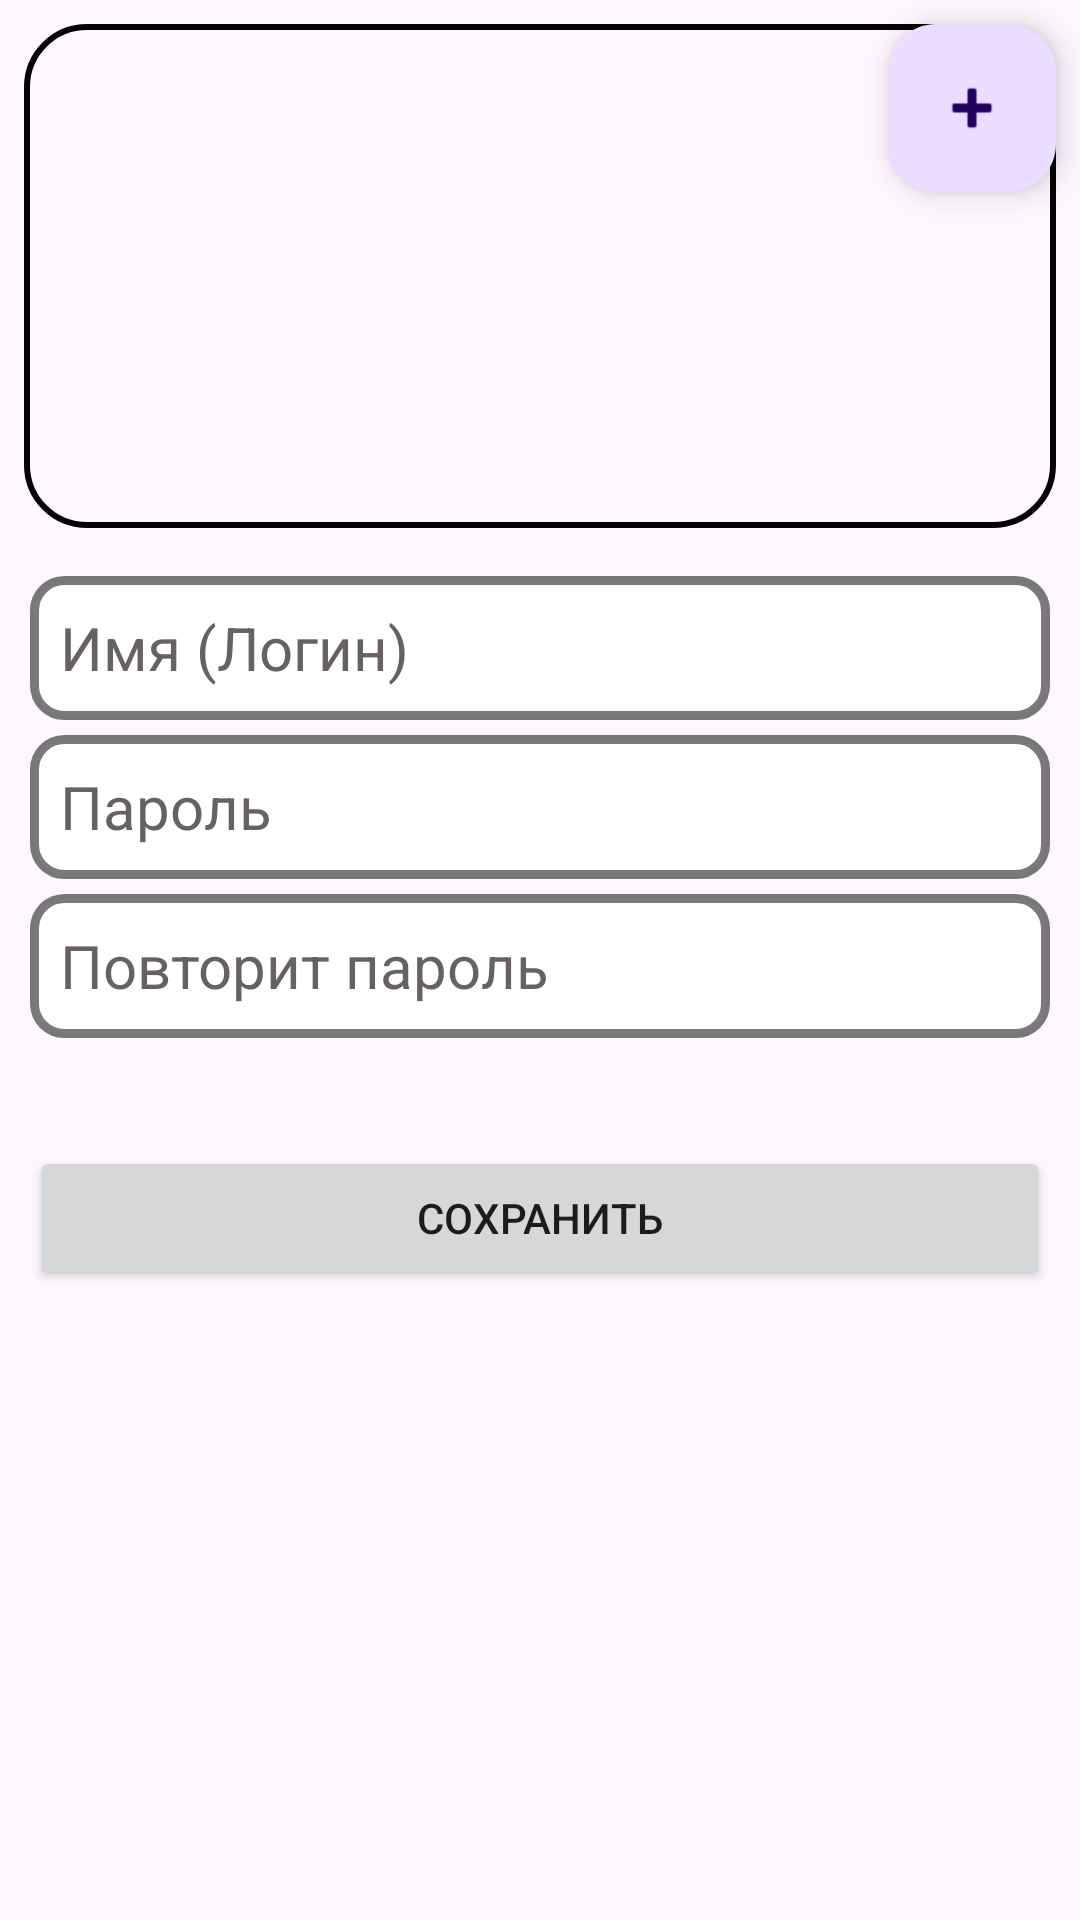

Point at icon controls on the screen. Image size 1080x1920, points as (x,y).
add: (972,108)
